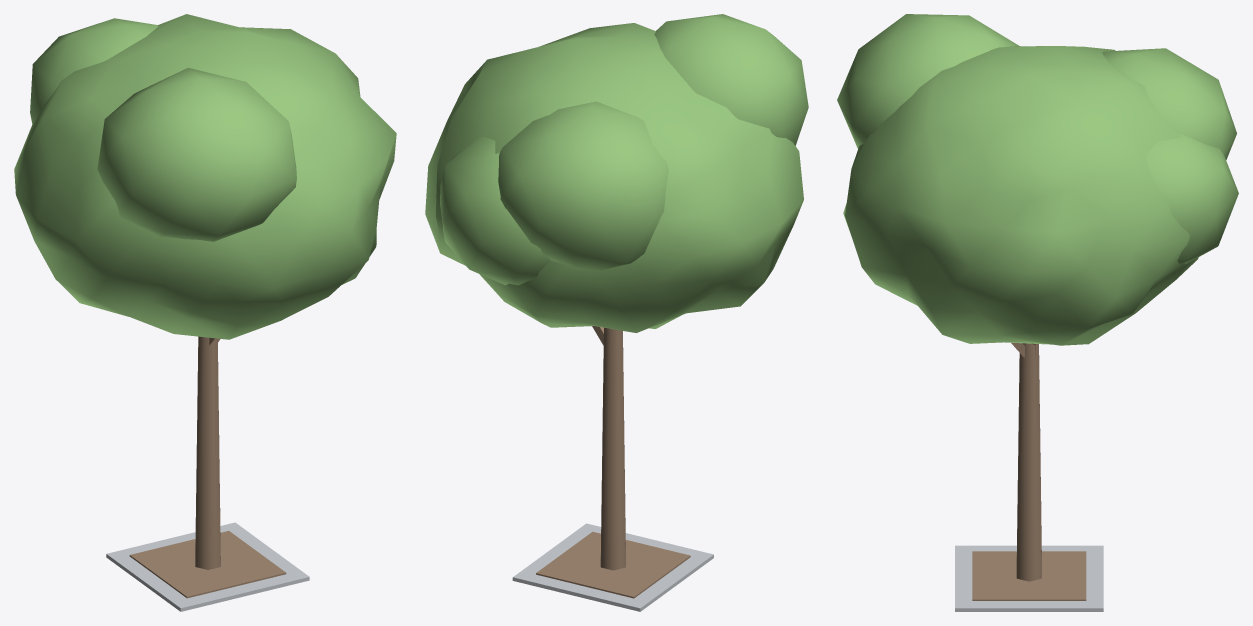
Rendered from tree_street_a.glb.
3 views of the same model, side by side, from view 1: azimuth 30°, elevation 25°; view 2: azimuth 150°, elevation 25°; view 3: azimuth 270°, elevation 25° (orthographic).
Parts seen in each view (by area): view 1: tree_street_a; view 2: tree_street_a; view 3: tree_street_a.
Boxes of the visible parts, bbox=[...] form: tree_street_a: bbox=[14, 14, 396, 611]; tree_street_a: bbox=[425, 14, 808, 611]; tree_street_a: bbox=[837, 14, 1238, 611].
Size of the model in its own units: 3.43 by 5.18 by 3.52.
